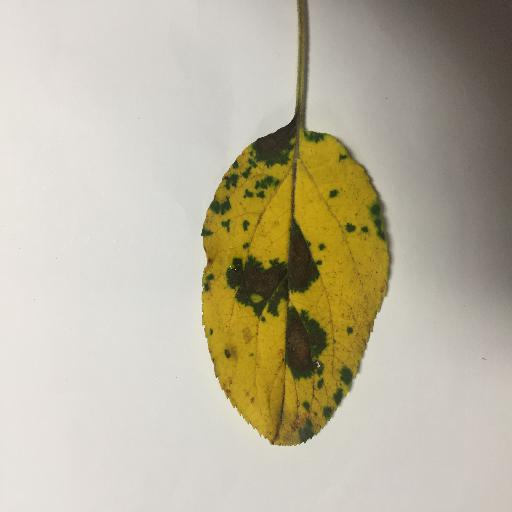Brown_Spot: (241, 234, 320, 303), (272, 306, 328, 380), (244, 125, 304, 166)
